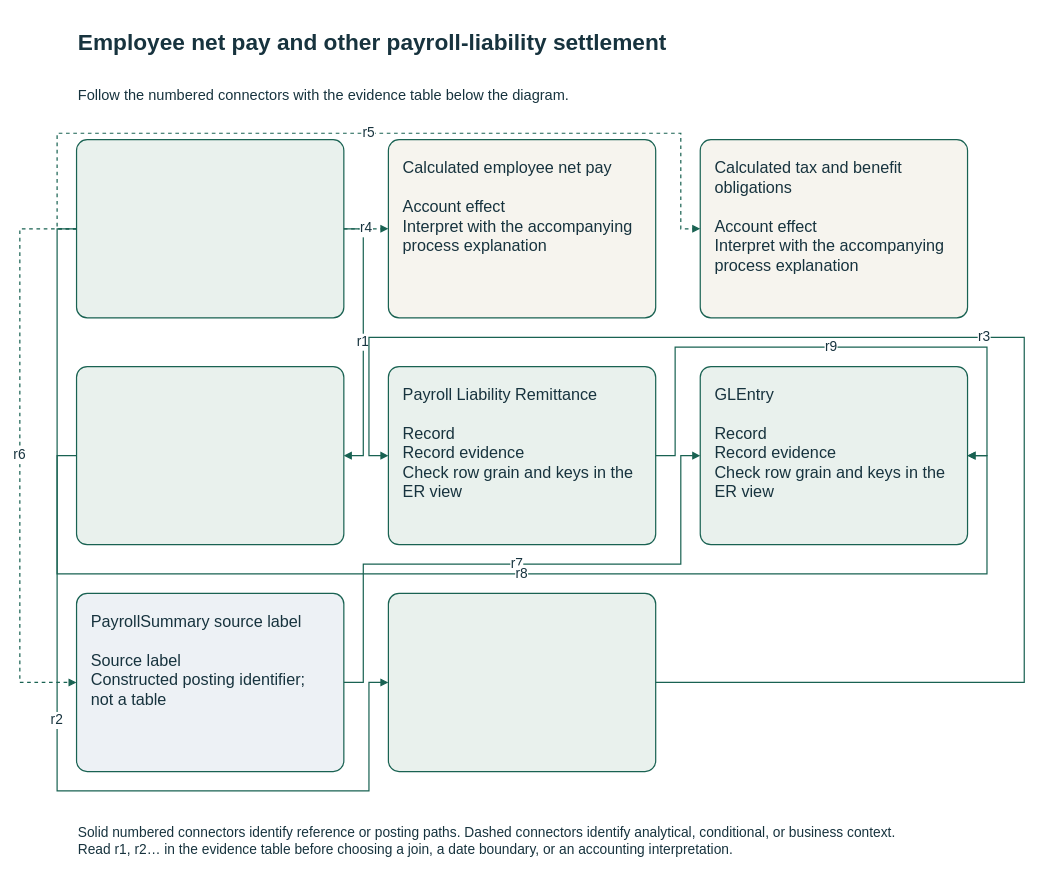
Image size: 1046x879. Some labels were removed from this diagram. Here are the shapes that lost their labels. From the top down, the centre of each, then its label:
At pixel 210 228: "Payroll Register Record Record evidence Check row grain and keys in the ER view".
At pixel 210 455: "Payroll Payment Record Record evidence Check row grain and keys in the ER view".
At pixel 521 682: "PayrollPeriod Record Record evidence Check row grain and keys in the ER view".
